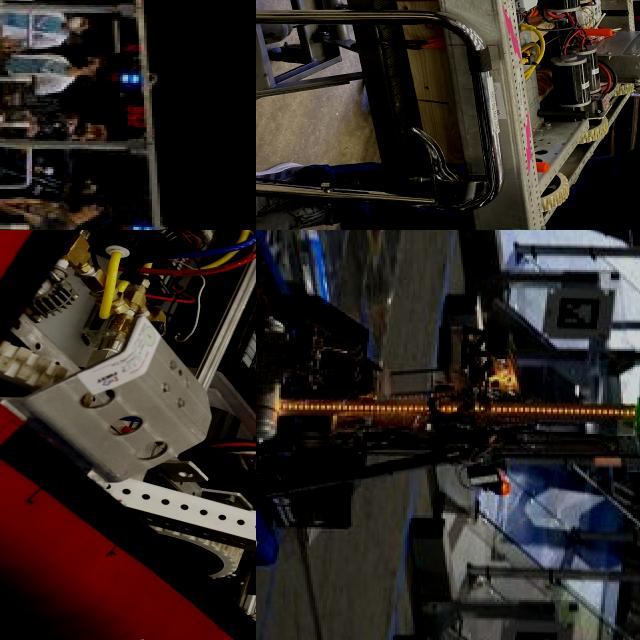FRC-Robots: (256, 230, 640, 577), (0, 230, 256, 640), (432, 0, 640, 230)
